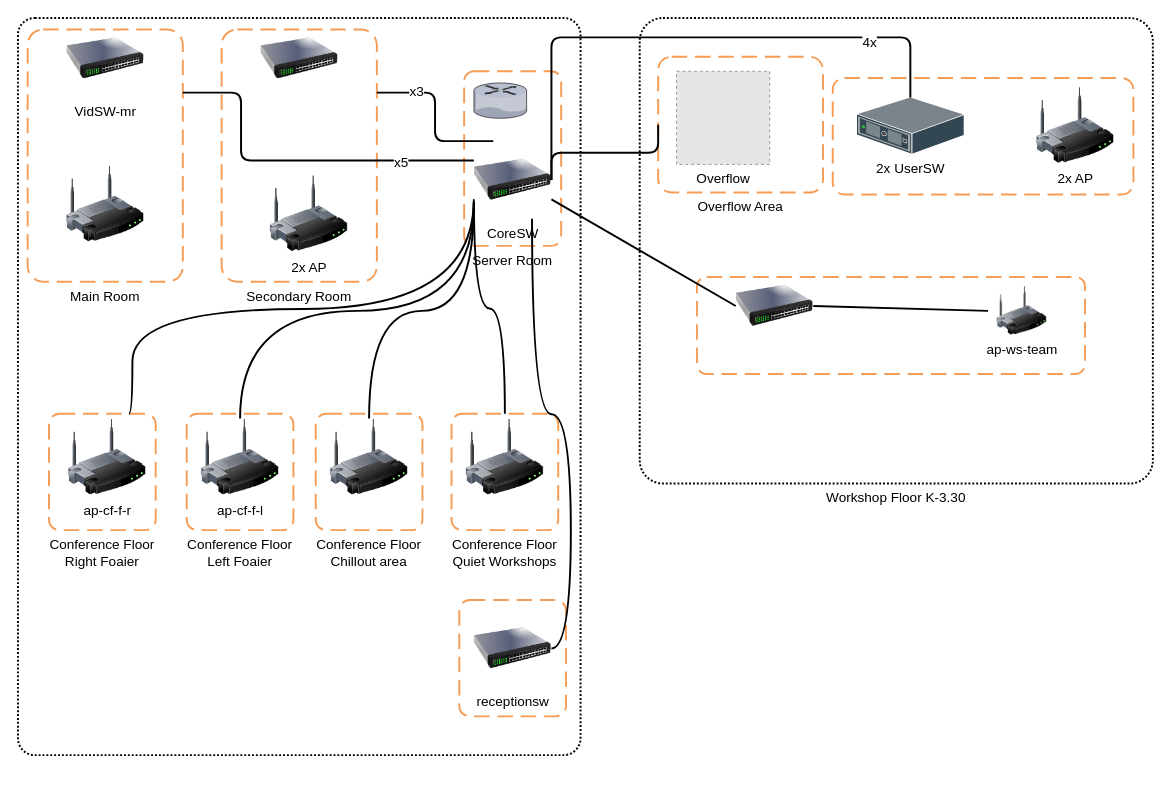
Some shapes in this 1170 by 793 pixel diagram are drawn without their labels. Grey dashed boxes stand in for pictures. Each missing label, with the box of its shape:
4x AP: (66, 165, 144, 242)
ap-cf-ch: (330, 418, 407, 496)
ap-cf-qws: (466, 418, 543, 496)
Conference Floor - K+0.00: (16, 16, 581, 756)
NOC / Team Area: (695, 275, 1085, 374)
nocsw: (735, 267, 813, 344)
Reception area: (458, 598, 566, 717)
VidSW-sr: (260, 19, 338, 97)
Workshop Area: (831, 77, 1134, 195)
